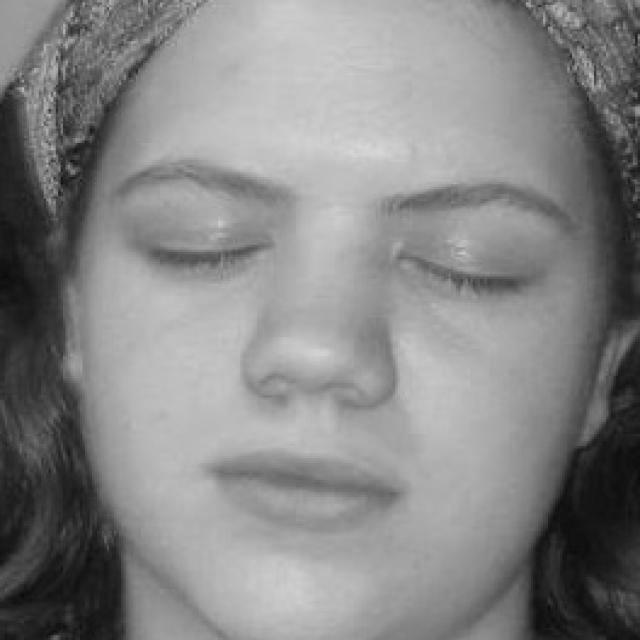real: (80, 52, 602, 602), (126, 170, 550, 322)
